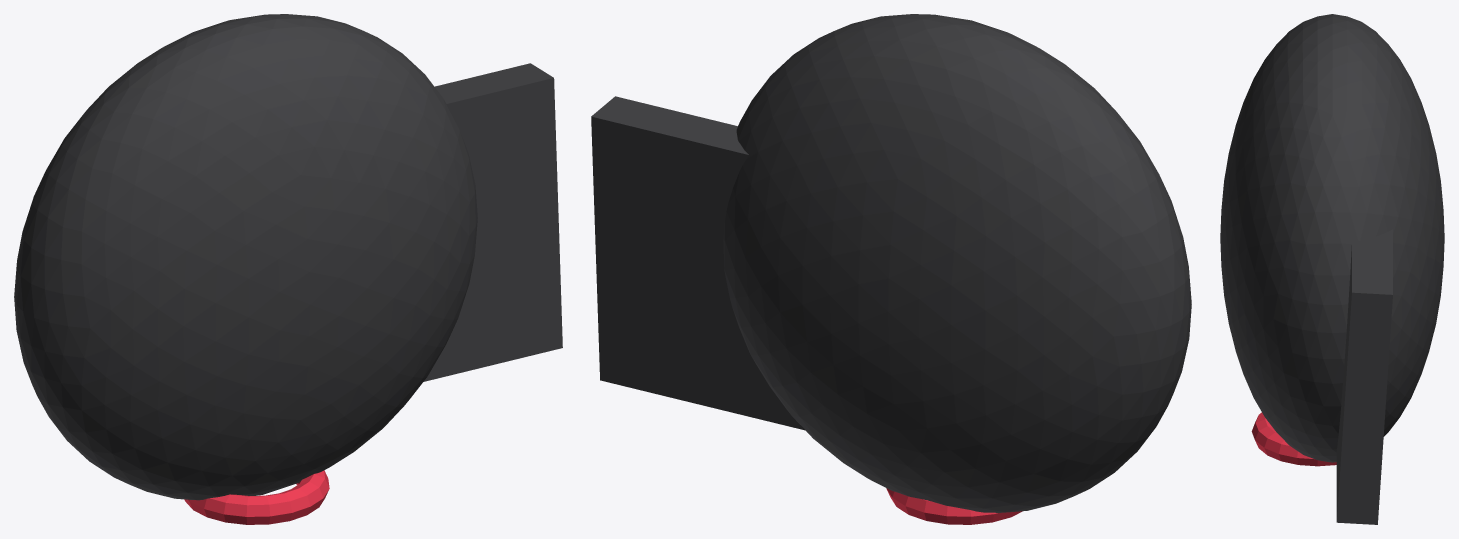
Rendered from bone_cerberus.glb.
The picture shows the model from 3 angles, left to right: view 1: azimuth 30°, elevation 25°; view 2: azimuth 150°, elevation 25°; view 3: azimuth 270°, elevation 25°; orthographic projection. The views are drawn at different scales.
Visible parts, largest first — view 1: Cap_Crown, Cap_Brim, Cap_Logo; view 2: Cap_Crown, Cap_Brim, Cap_Logo; view 3: Cap_Crown, Cap_Brim, Cap_Logo.
Part boxes in pixels (left/top/right/bottom): Cap_Crown: left=14, top=14, right=477, bottom=500; Cap_Brim: left=423, top=63, right=562, bottom=381; Cap_Logo: left=184, top=470, right=329, bottom=524; Cap_Crown: left=723, top=14, right=1191, bottom=512; Cap_Brim: left=591, top=96, right=805, bottom=430; Cap_Logo: left=886, top=488, right=1022, bottom=524; Cap_Crown: left=1220, top=14, right=1444, bottom=462; Cap_Brim: left=1336, top=229, right=1392, bottom=524; Cap_Logo: left=1251, top=412, right=1336, bottom=466.
Size of the model in its own units: 0.73 by 0.603 by 0.3.
